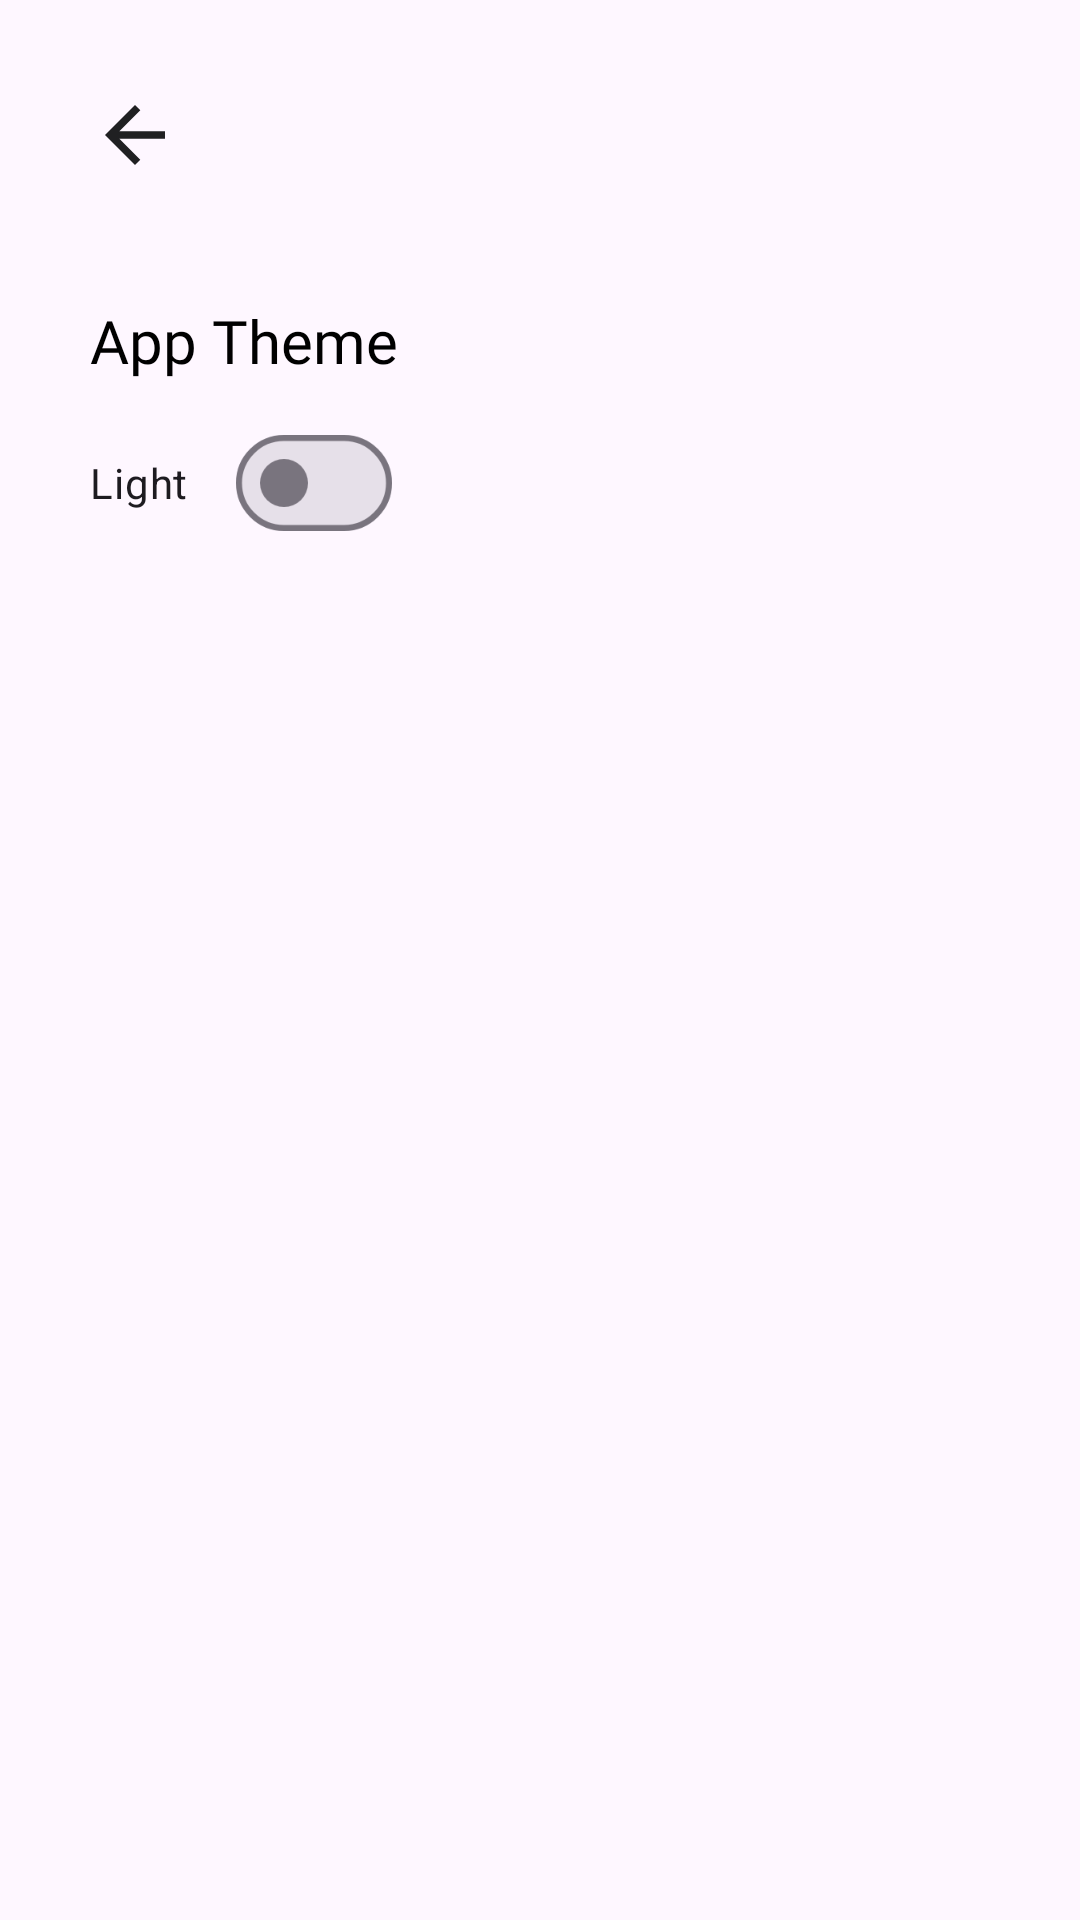

Named icons in this screenshot (1080x1920) and their bounding boxes, (x1, y1, x2, y2):
arrow back: (105, 105, 165, 165)
